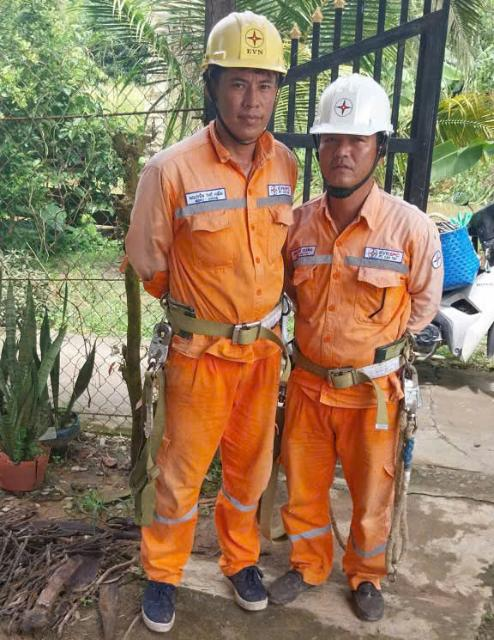harness: (138, 282, 308, 343), (291, 339, 435, 387)
helmet: (191, 0, 301, 81), (306, 70, 399, 152)
shoes: (338, 546, 398, 634), (138, 568, 211, 631), (265, 552, 331, 615), (227, 558, 272, 621)
